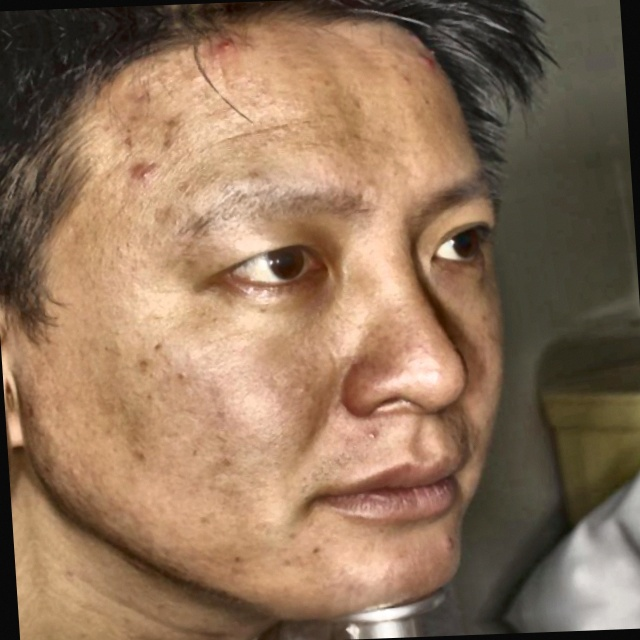comedone: (113, 140, 173, 197), (198, 27, 248, 65), (431, 531, 472, 553)
